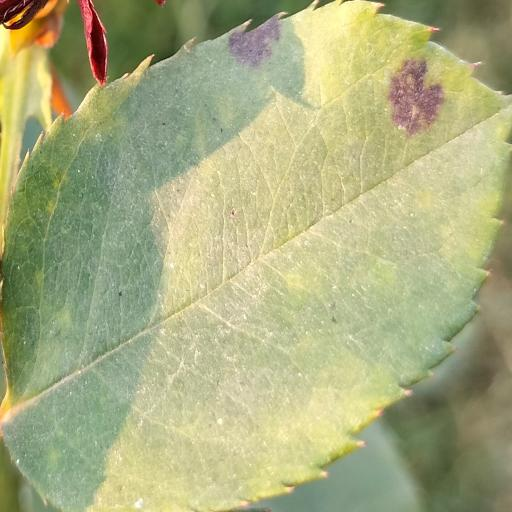black_spot: (0, 1, 512, 512)
